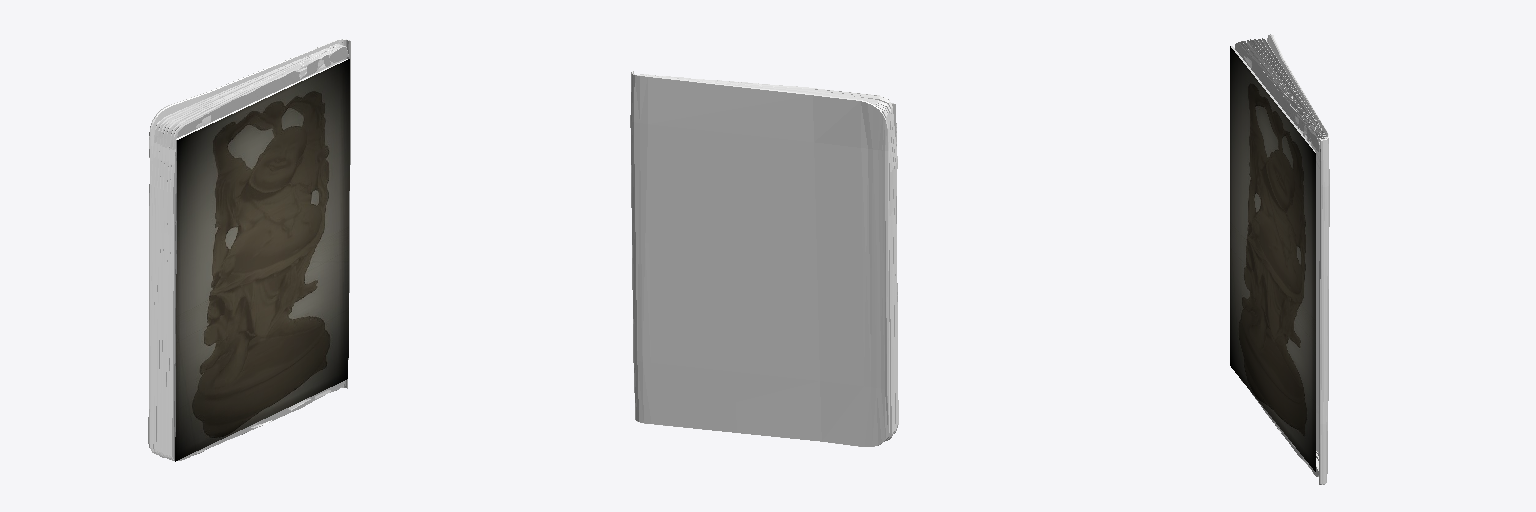
The picture shows the model from 3 angles: view 1: azimuth 30°, elevation 25°; view 2: azimuth 150°, elevation 25°; view 3: azimuth 270°, elevation 25°; orthographic projection.
Visible parts, largest first — view 1: Object.2, Object.1; view 2: Object.1; view 3: Object.2, Object.1.
Boxes of the visible parts, x1,y1,x2,y2 form: Object.2: [174, 59, 349, 461]; Object.1: [148, 39, 350, 460]; Object.1: [630, 71, 898, 446]; Object.2: [1230, 46, 1315, 471]; Object.1: [1235, 34, 1329, 484].
Size of the model in its own units: 105 by 152 by 39.13.
3 materials, 1 textured.